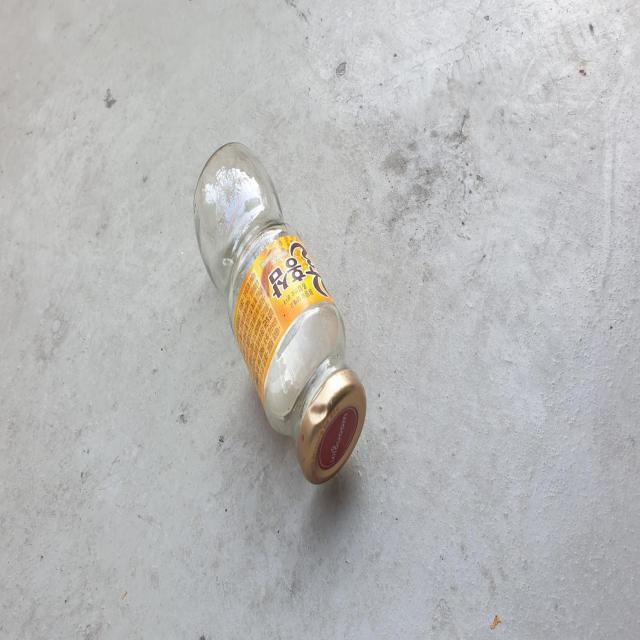glass: (193, 142, 366, 484)
